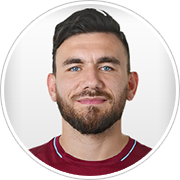face: (45, 44, 141, 125)
